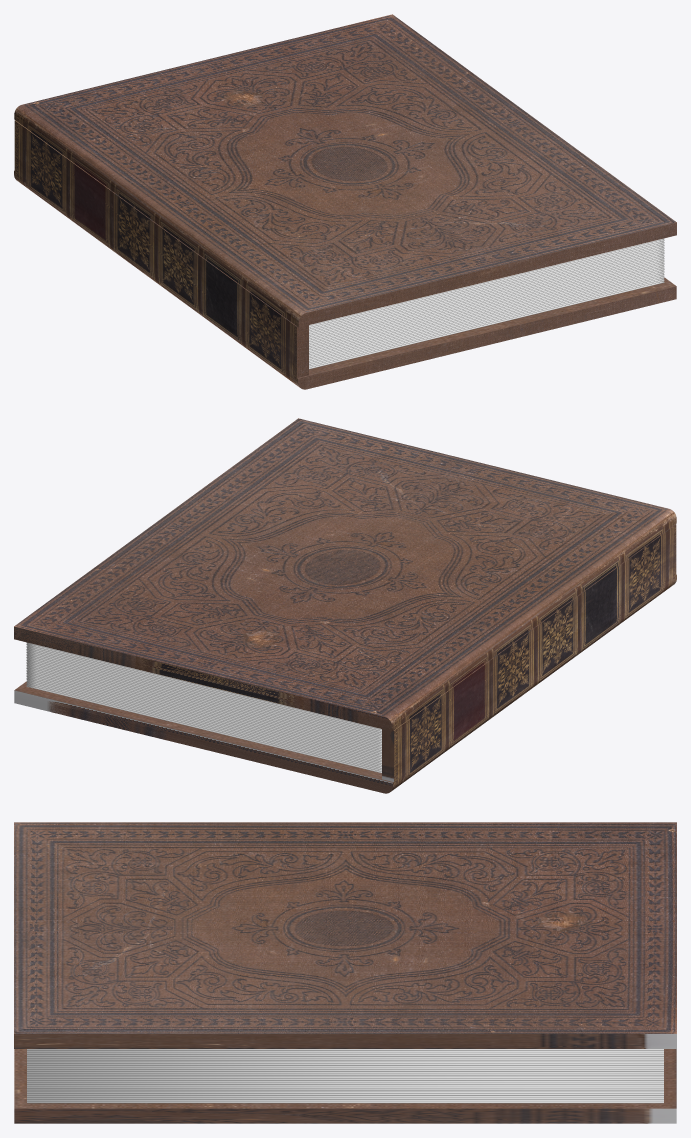
The model's file is Cover Opening Final CLEAN25.glb.
3 renders of one model, top to bottom at view 1: azimuth 30°, elevation 25°; view 2: azimuth 150°, elevation 25°; view 3: azimuth 270°, elevation 25°, orthographic. The views are drawn at different scales.
Parts seen in each view (by area): view 1: Cube.002, Cube, Cube.001, Plane.073, Plane.080, Plane.099, Plane.077, Plane.086, Plane.087, Plane.093, Plane.094, Plane.075 (+19 smaller); view 2: Cube.002, Cube, Cube.001, Plane.073, Plane.080, Plane.099, Plane.077, Plane.086, Plane.087, Plane.093, Plane.094, Plane.075 (+19 smaller); view 3: Cube.002, Cube.001, Plane.073, Plane.074, Plane.075, Plane.080, Plane.081, Plane.082, Plane.083, Plane.088, Plane.089, Plane.090 (+19 smaller).
Boxes of the visible parts, <box> form: Cube.002: <box>14,14,676,327</box>; Cube: <box>14,120,308,377</box>; Cube.001: <box>14,170,676,389</box>; Plane.073: <box>309,281,664,369</box>; Plane.080: <box>309,270,664,357</box>; Plane.099: <box>309,239,664,327</box>; Plane.077: <box>309,275,664,362</box>; Plane.086: <box>309,260,664,348</box>; Plane.087: <box>309,259,664,346</box>; Plane.093: <box>309,249,664,337</box>; Plane.094: <box>309,247,664,335</box>; Plane.075: <box>309,278,664,365</box>; Cube.002: <box>14,418,676,731</box>; Cube: <box>382,524,676,781</box>; Cube.001: <box>14,574,676,793</box>; Plane.073: <box>26,685,381,773</box>; Plane.080: <box>26,674,381,761</box>; Plane.099: <box>26,643,381,731</box>; Plane.077: <box>26,679,381,766</box>; Plane.086: <box>26,664,381,752</box>; Plane.087: <box>26,663,381,750</box>; Plane.093: <box>26,653,381,741</box>; Plane.094: <box>26,651,381,739</box>; Plane.075: <box>26,682,381,769</box>; Cube.002: <box>14,822,676,1048</box>; Cube.001: <box>14,1049,676,1123</box>; Plane.073: <box>27,1101,663,1103</box>; Plane.074: <box>27,1099,663,1101</box>; Plane.075: <box>27,1097,663,1099</box>; Plane.080: <box>27,1088,663,1090</box>; Plane.081: <box>27,1086,663,1088</box>; Plane.082: <box>27,1084,663,1086</box>; Plane.083: <box>27,1082,663,1084</box>; Plane.088: <box>27,1073,663,1075</box>; Plane.089: <box>27,1071,663,1073</box>; Plane.090: <box>27,1069,663,1071</box>.
Bounding box in the file's own units: 1.55 × 0.3 × 2.01.
1 material, 1 textured.
